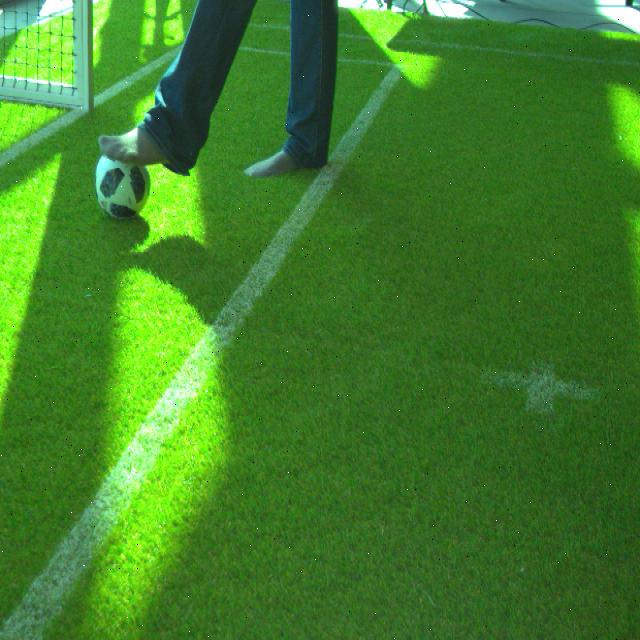ball: (94, 150, 151, 222)
goalpost: (75, 0, 94, 111)
